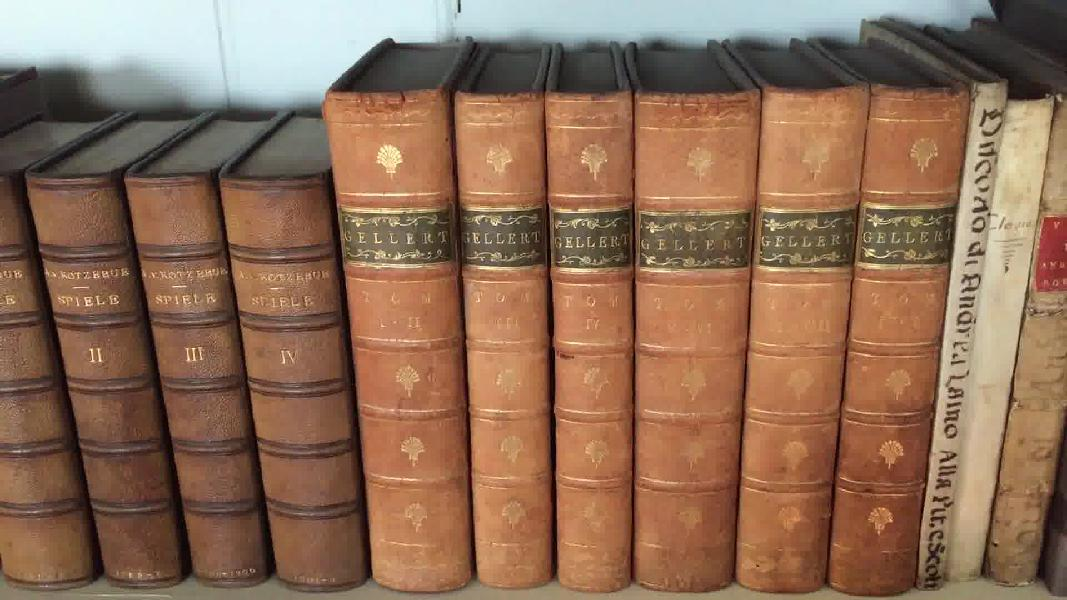Aa6-18_23: (316, 66, 956, 585)
Aa6-24: (915, 50, 996, 597)
Aa6-25: (939, 46, 1048, 597)
